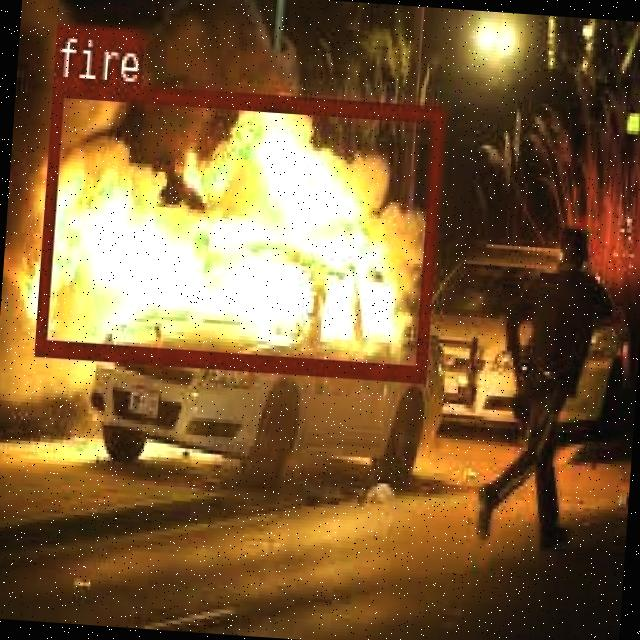fire: (32, 78, 440, 380)
